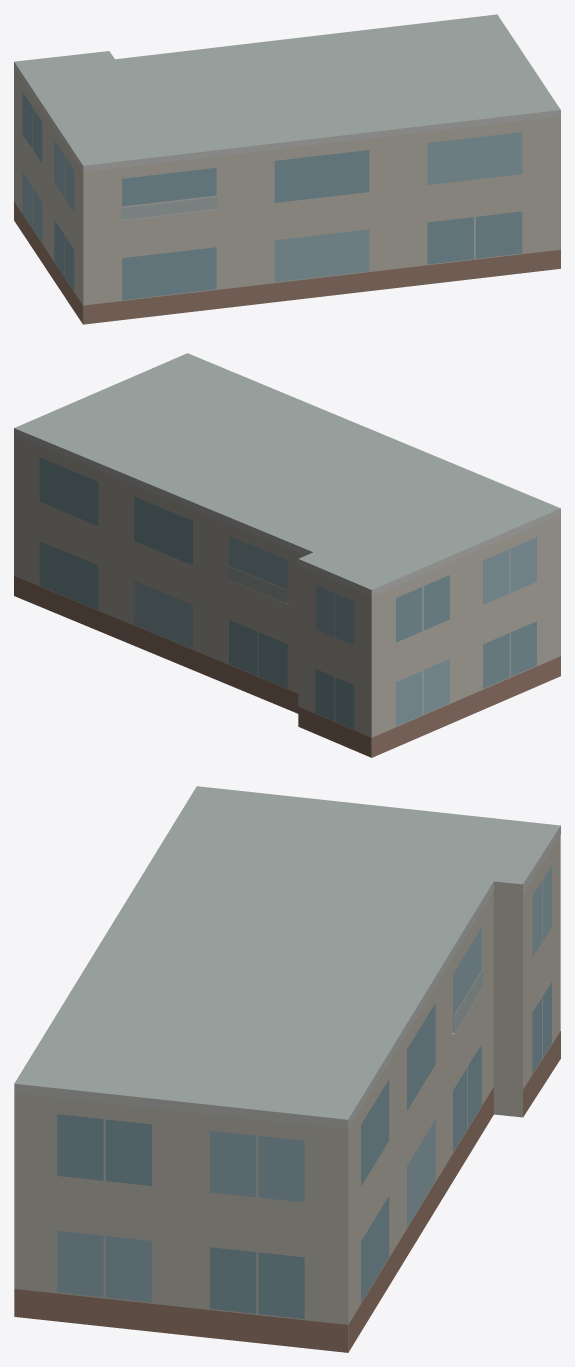
Rendered from survey-upis-32890086.glb.
3 renders of one model, top to bottom at view 1: azimuth 30°, elevation 25°; view 2: azimuth 150°, elevation 25°; view 3: azimuth 270°, elevation 25°, orthographic. The views are drawn at different scales.
Parts seen in each view (by area): view 1: survey-upis-32890086.tmp; view 2: survey-upis-32890086.tmp; view 3: survey-upis-32890086.tmp.
Part boxes in pixels (left/top/right/bottom): survey-upis-32890086.tmp: left=14, top=14, right=560, bottom=324; survey-upis-32890086.tmp: left=14, top=353, right=560, bottom=757; survey-upis-32890086.tmp: left=14, top=786, right=560, bottom=1352.
Bounding box in the file's own units: 18.74 × 6.1 × 12.98.
